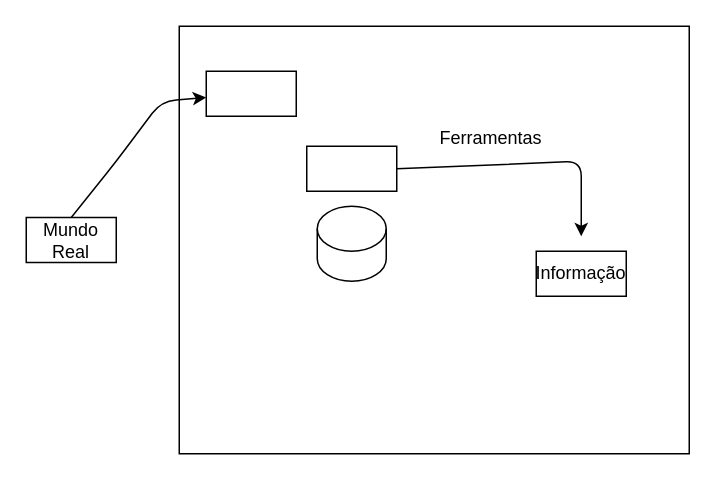
Some shapes in this 716 by 480 pixel diagram are drawn without their labels. The box of each missing label's shape, as (x1, y1, x2, y2) in pixels:
Dados: (305, 145, 397, 191)
Fatos: (205, 70, 296, 116)
